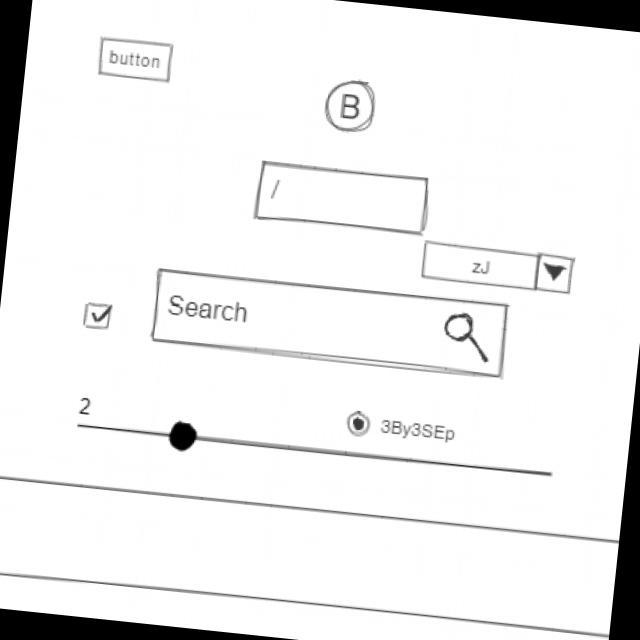button: (94, 34, 176, 85)
checkbox: (80, 298, 114, 332)
container: (0, 471, 619, 640)
icon-button: (321, 75, 378, 136)
input: (251, 157, 434, 238)
radio: (342, 408, 458, 447)
search: (148, 264, 512, 382)
select: (418, 238, 577, 296)
slider: (92, 410, 556, 490)
